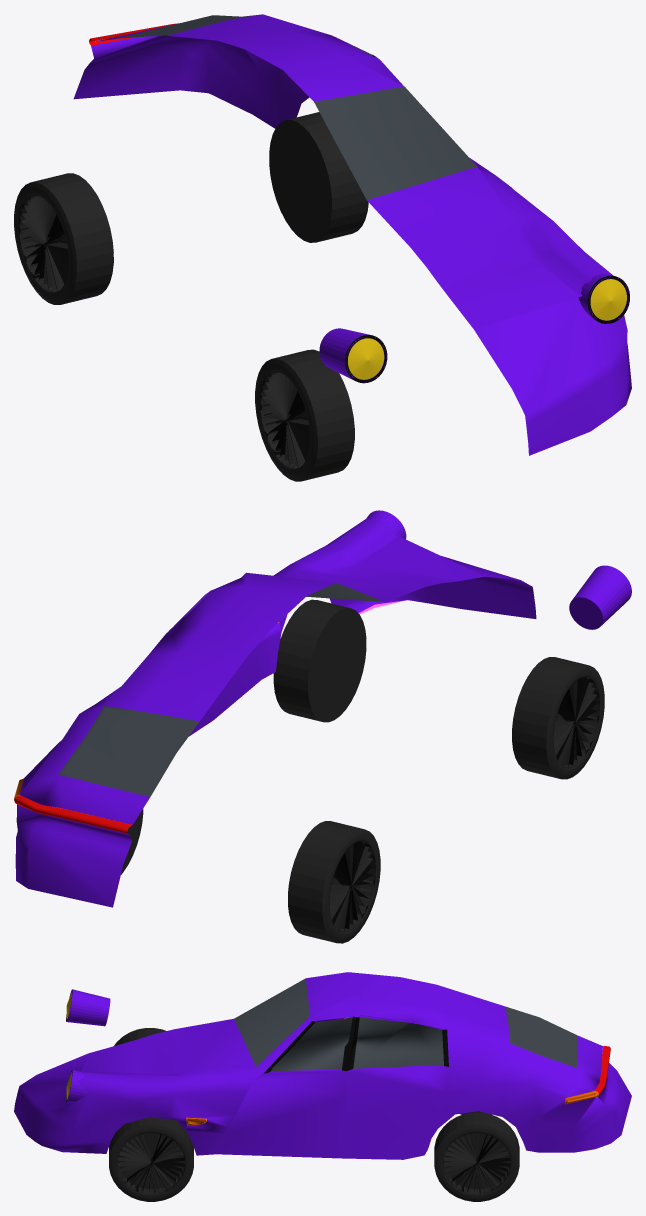
3 renders of one model, top to bottom at view 1: azimuth 30°, elevation 25°; view 2: azimuth 150°, elevation 25°; view 3: azimuth 270°, elevation 25°, orthographic. The views are drawn at different scales.
Parts seen in each view (by area): view 1: Cube, front_left.002, front_left.003, front_left.001, Cylinder.001, Cylinder.002; view 2: Cube, front_left.002, front_left.003, front_left, Cylinder.001; view 3: Cube, front_left.001, front_left, Cylinder.001, Cylinder.002, front_left.003.
Part boxes in pixels (left/top/right/bottom): Cube: left=73, top=14, right=631, bottom=455; front_left.002: left=14, top=173, right=113, bottom=304; front_left.003: left=255, top=349, right=354, bottom=481; front_left.001: left=269, top=112, right=368, bottom=242; Cylinder.001: left=319, top=328, right=387, bottom=383; Cylinder.002: left=578, top=273, right=629, bottom=323; Cube: left=14, top=518, right=536, bottom=907; front_left.002: left=288, top=821, right=380, bottom=943; front_left.003: left=512, top=657, right=604, bottom=779; front_left: left=273, top=599, right=366, bottom=722; Cylinder.001: left=569, top=565, right=631, bottom=629; Cube: left=14, top=972, right=631, bottom=1159; front_left.001: left=434, top=1112, right=519, bottom=1201; front_left: left=109, top=1117, right=193, bottom=1201; Cylinder.001: left=66, top=989, right=110, bottom=1026; Cylinder.002: left=66, top=1069, right=89, bottom=1102; front_left.003: left=114, top=1028, right=166, bottom=1045.
Size of the model in its own units: 2.12 by 1.78 by 5.54.
